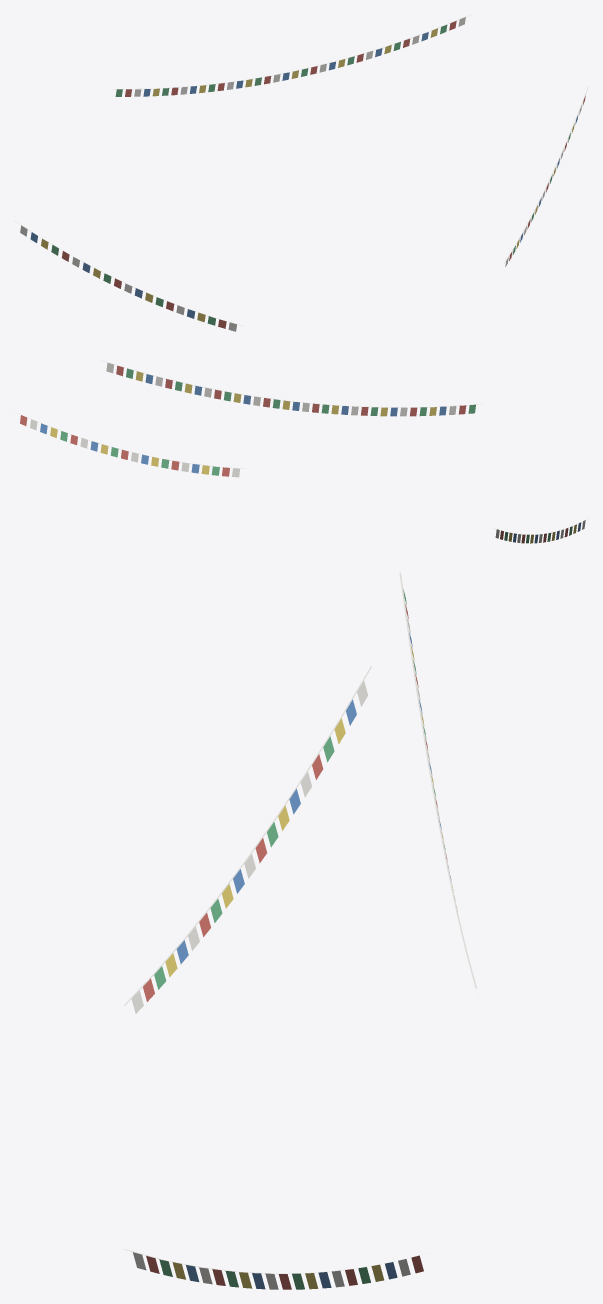
The picture shows the model from 3 angles, top to bottom: view 1: azimuth 30°, elevation 25°; view 2: azimuth 150°, elevation 25°; view 3: azimuth 270°, elevation 25°; orthographic projection. The views are drawn at different scales.
Parts seen in each view (by area): view 1: PrayerFlags_L2_1_Exit; view 2: PrayerFlags_L2_1_Exit; view 3: PrayerFlags_L2_1_Exit.
Boxes of the visible parts, x1,y1,x2,y2 form: PrayerFlags_L2_1_Exit: [14, 14, 588, 331]; PrayerFlags_L2_1_Exit: [14, 360, 588, 543]; PrayerFlags_L2_1_Exit: [124, 572, 476, 1289].
Size of the model in its own units: 34.02 by 11.42 by 9.35.
